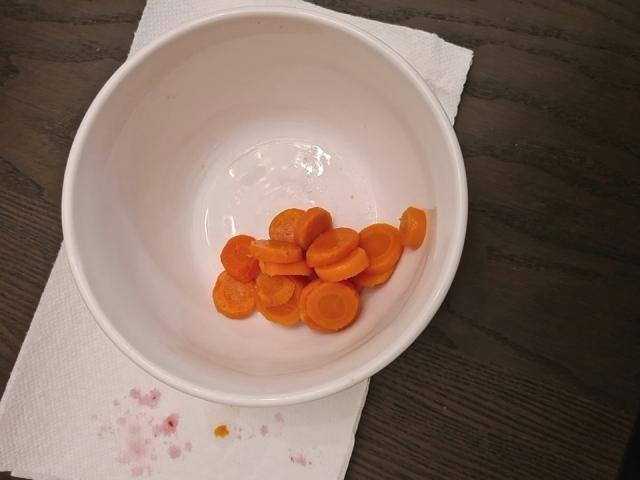kichen waste: (212, 206, 427, 333)
